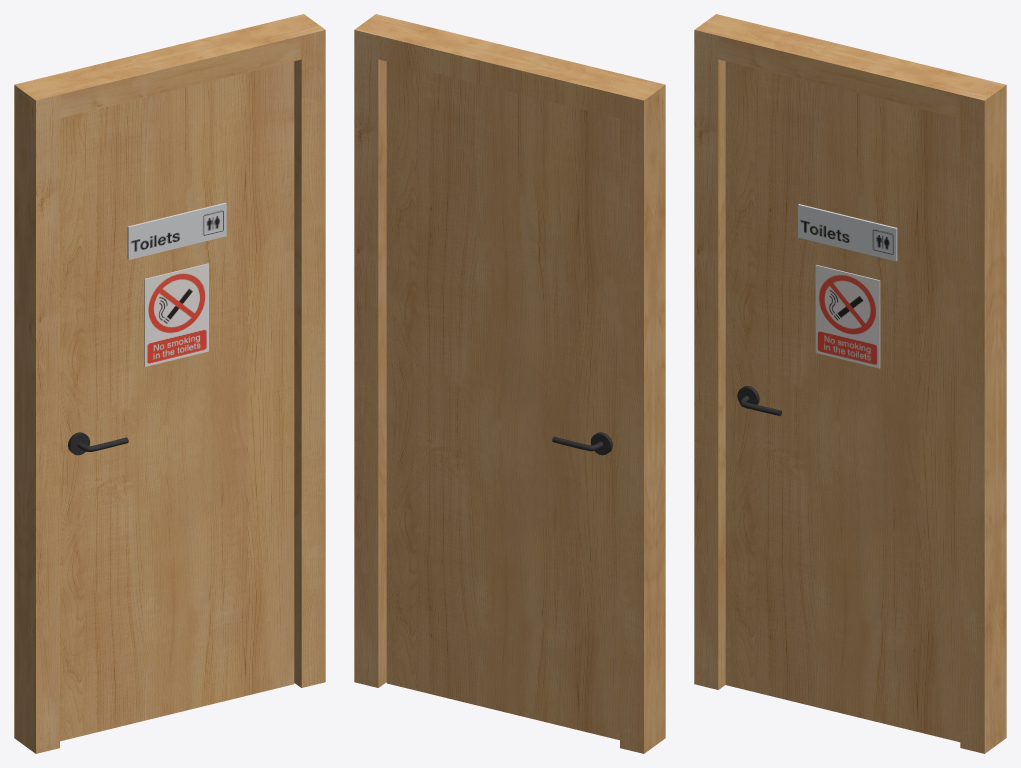
The model's file is Door 2.FBX.
3 views of the same model, side by side, from view 1: azimuth 30°, elevation 25°; view 2: azimuth 150°, elevation 25°; view 3: azimuth 330°, elevation 25° (orthographic).
Visible parts, largest first — view 1: Door, door frame, poster 2, poster; view 2: Door, door frame; view 3: Door, door frame, poster 2, poster.
Boxes of the visible parts, x1,y1,x2,y2 form: Door: [60, 61, 294, 741]; door frame: [14, 14, 325, 753]; poster 2: [144, 263, 208, 366]; poster: [127, 202, 226, 259]; Door: [386, 61, 619, 740]; door frame: [354, 14, 665, 753]; Door: [725, 61, 960, 742]; door frame: [694, 14, 1006, 753]; poster 2: [815, 265, 880, 368]; poster: [798, 204, 897, 261].
Bounding box in the file's own units: 101 × 217 × 17.52.
Materials: 3 (2 with a texture image).
